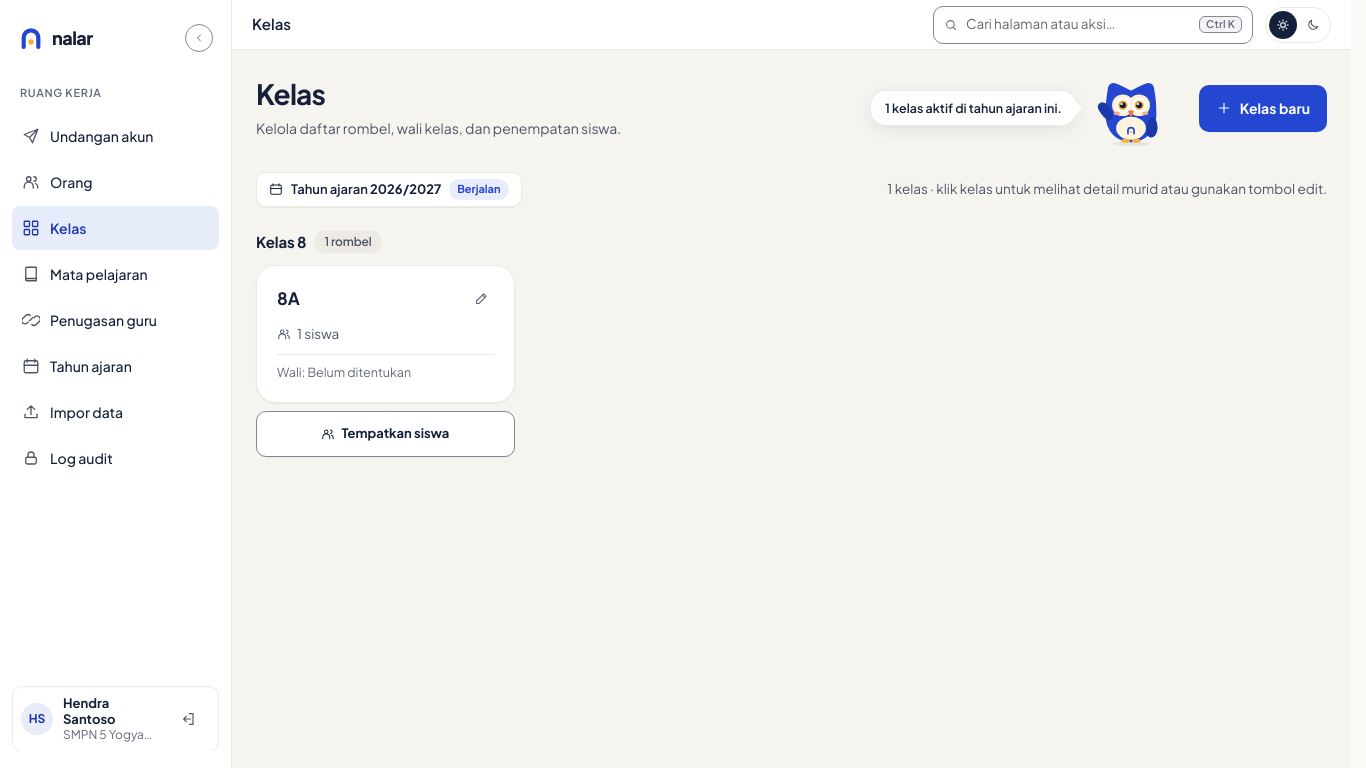
Test case: school administration › places the chosen students in a class with one request
Click the button with aria-label "Tempatkan siswa di 8A" at x=385, y=434, box [256, 411, 515, 456]
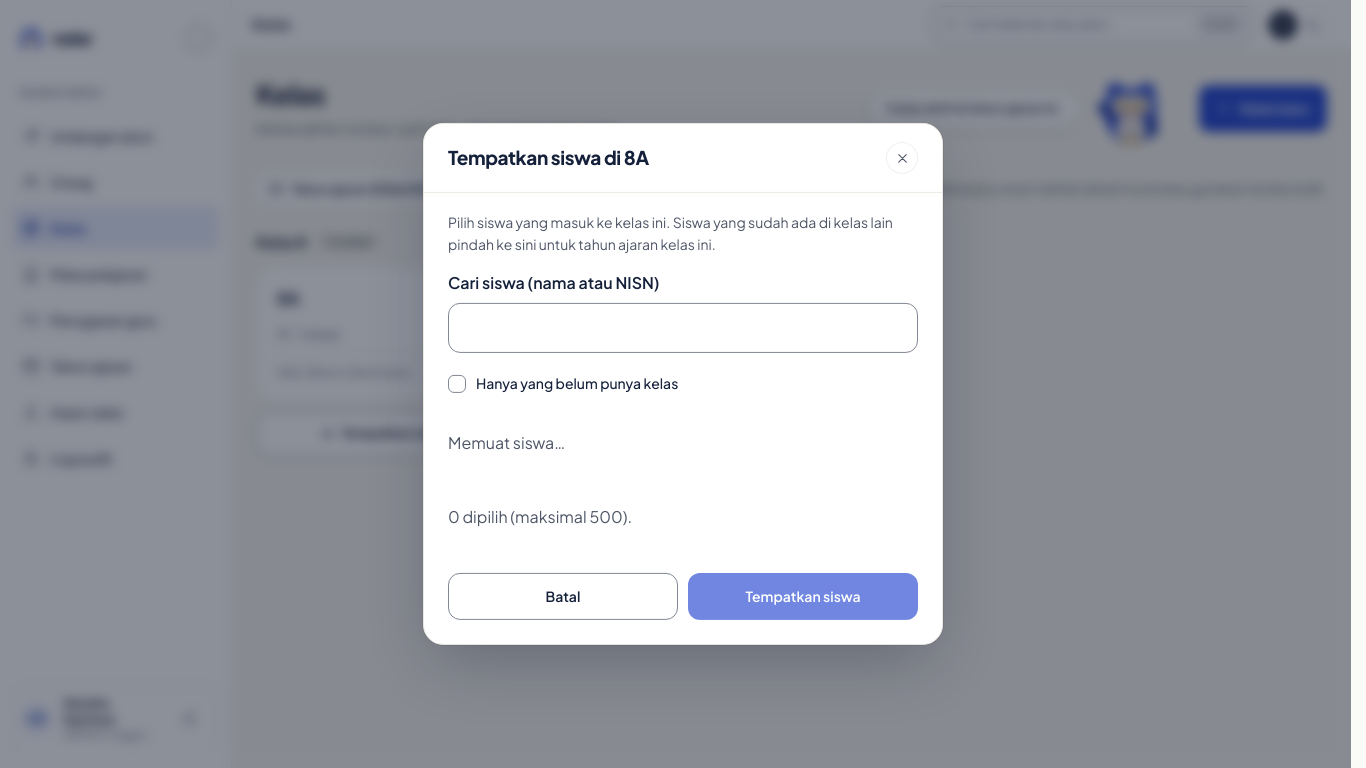
Click the checkbox labelled "Hanya yang belum punya kelas" at x=457, y=383, box [448, 374, 466, 392]
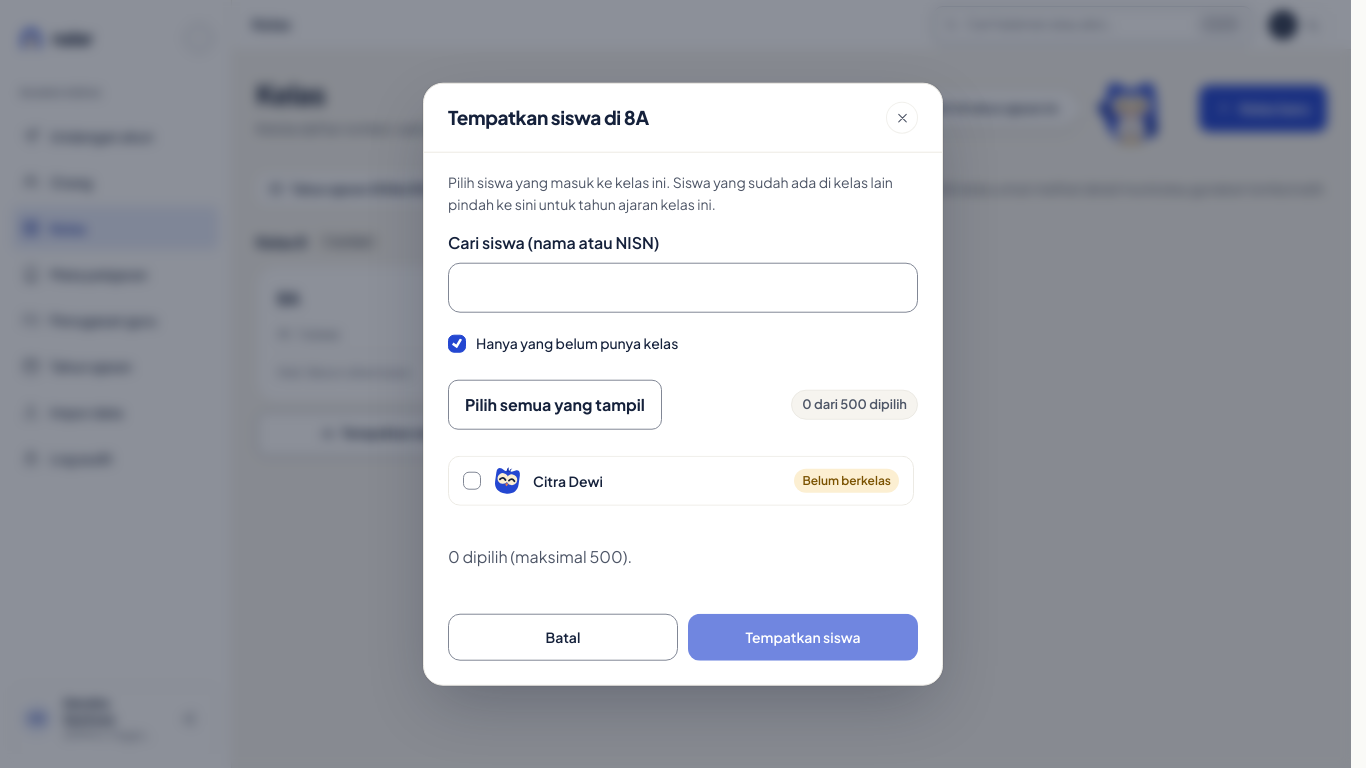
Click the button "Pilih semua yang tampil" at x=555, y=405, box [448, 380, 662, 430]
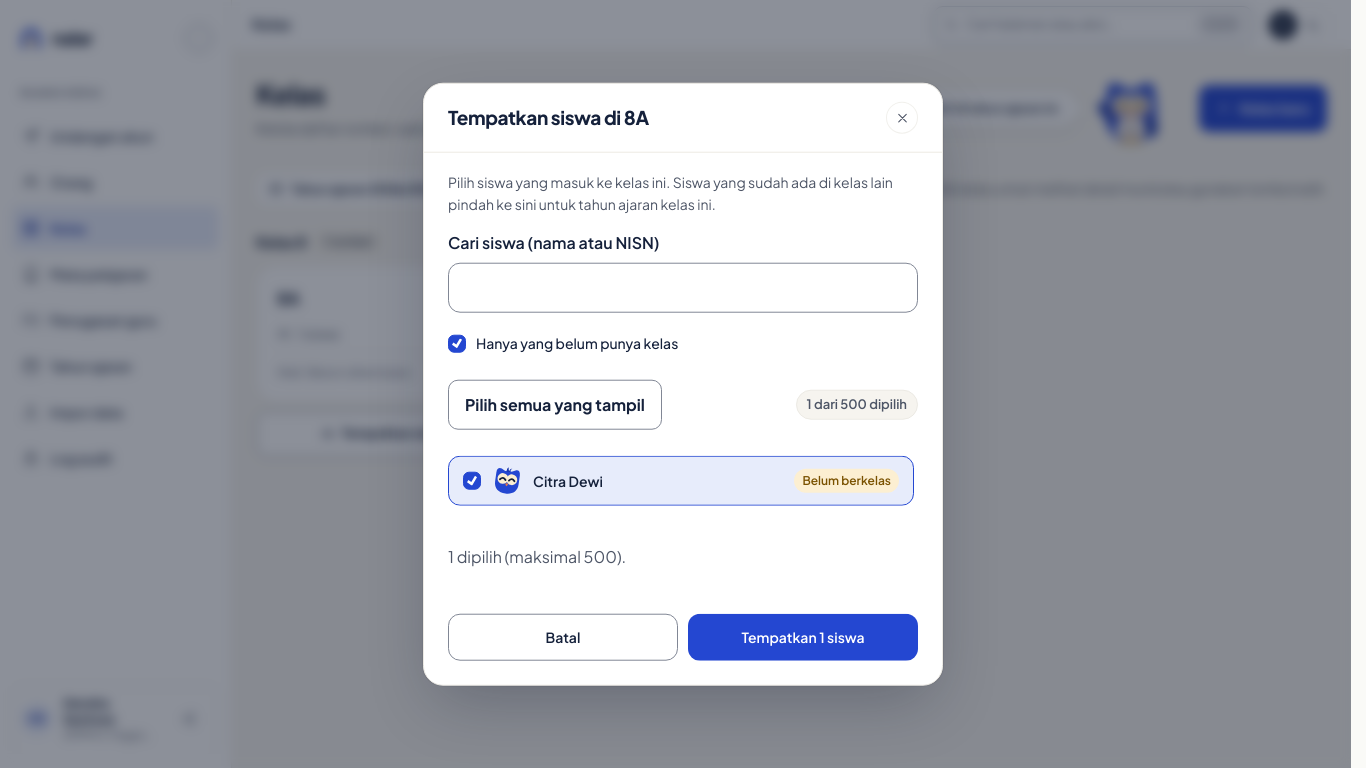
Expected: the text "1 dipilih (maksimal 500)." is shown, [448, 546, 626, 567]
Click the button "Tempatkan 1 siswa" at x=803, y=637, box [688, 613, 918, 660]
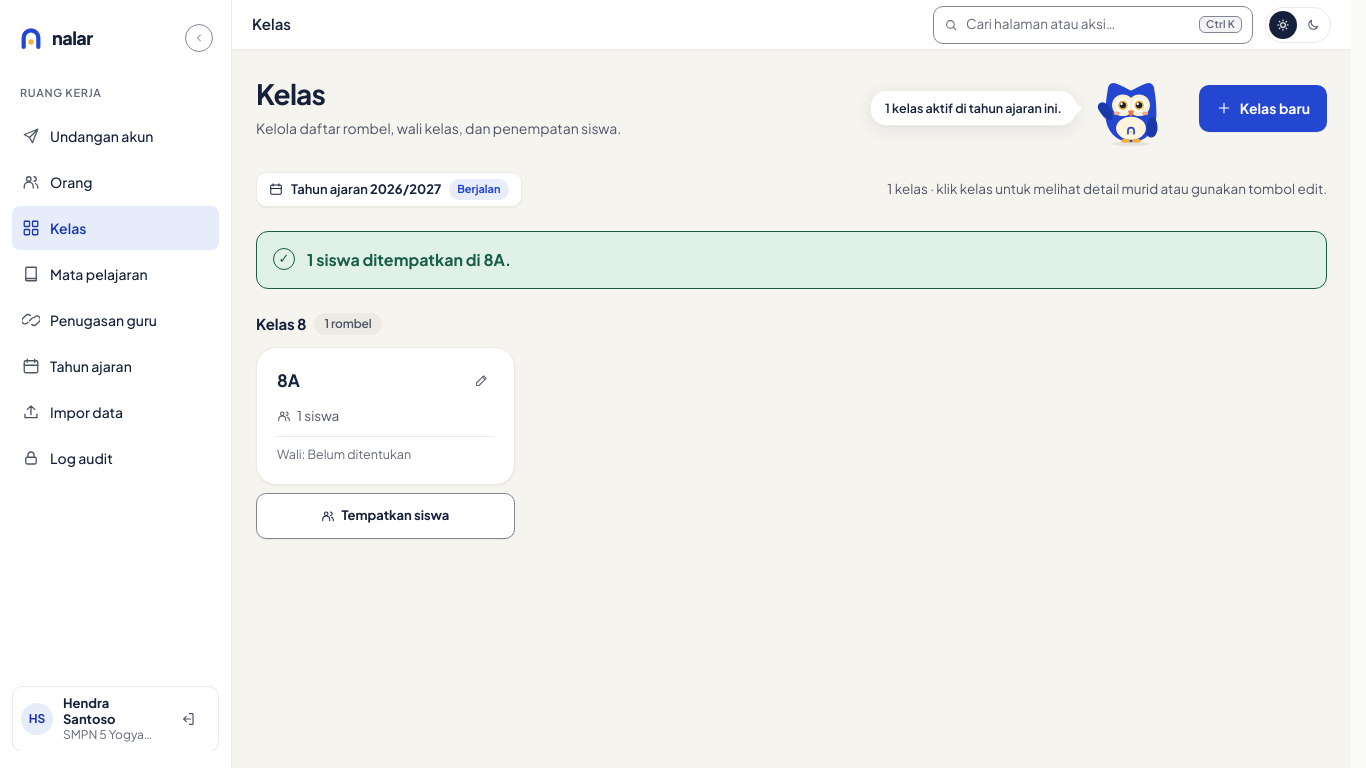
Expected: the text "1 siswa ditempatkan di 8A." is shown, [307, 248, 511, 272]
